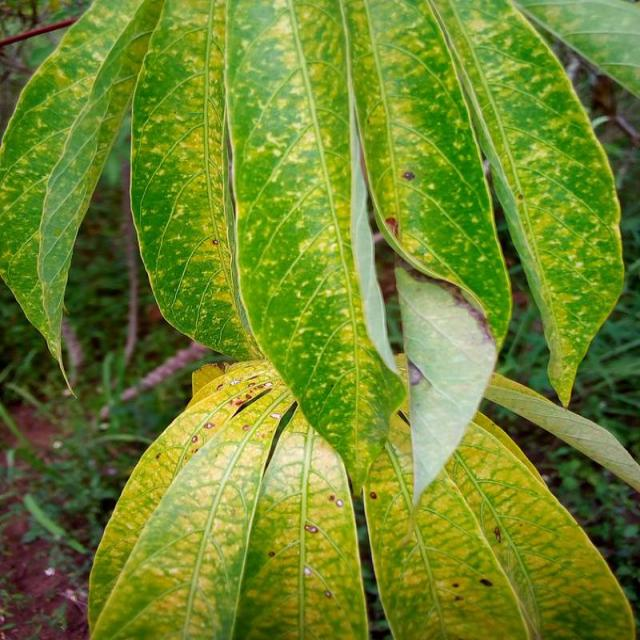cassava leaf: (1, 0, 636, 637), (220, 0, 406, 497), (428, 0, 625, 407), (85, 357, 368, 638), (0, 0, 162, 397), (362, 404, 636, 638)
